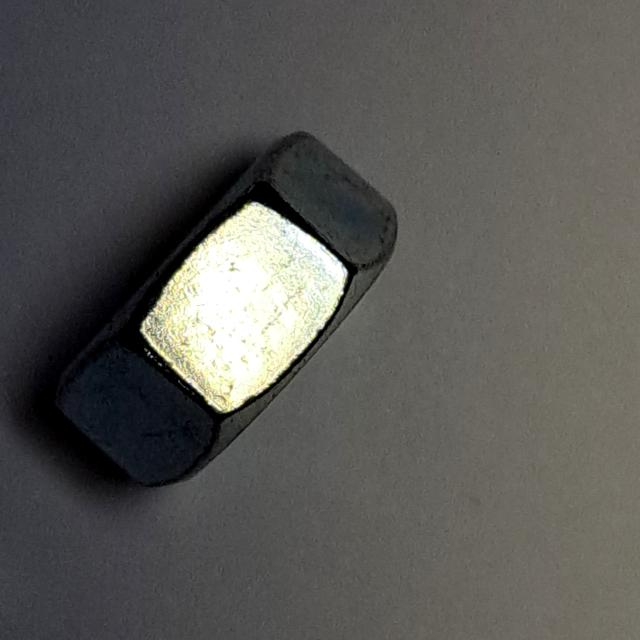Side_Excellent: (27, 115, 415, 500)
